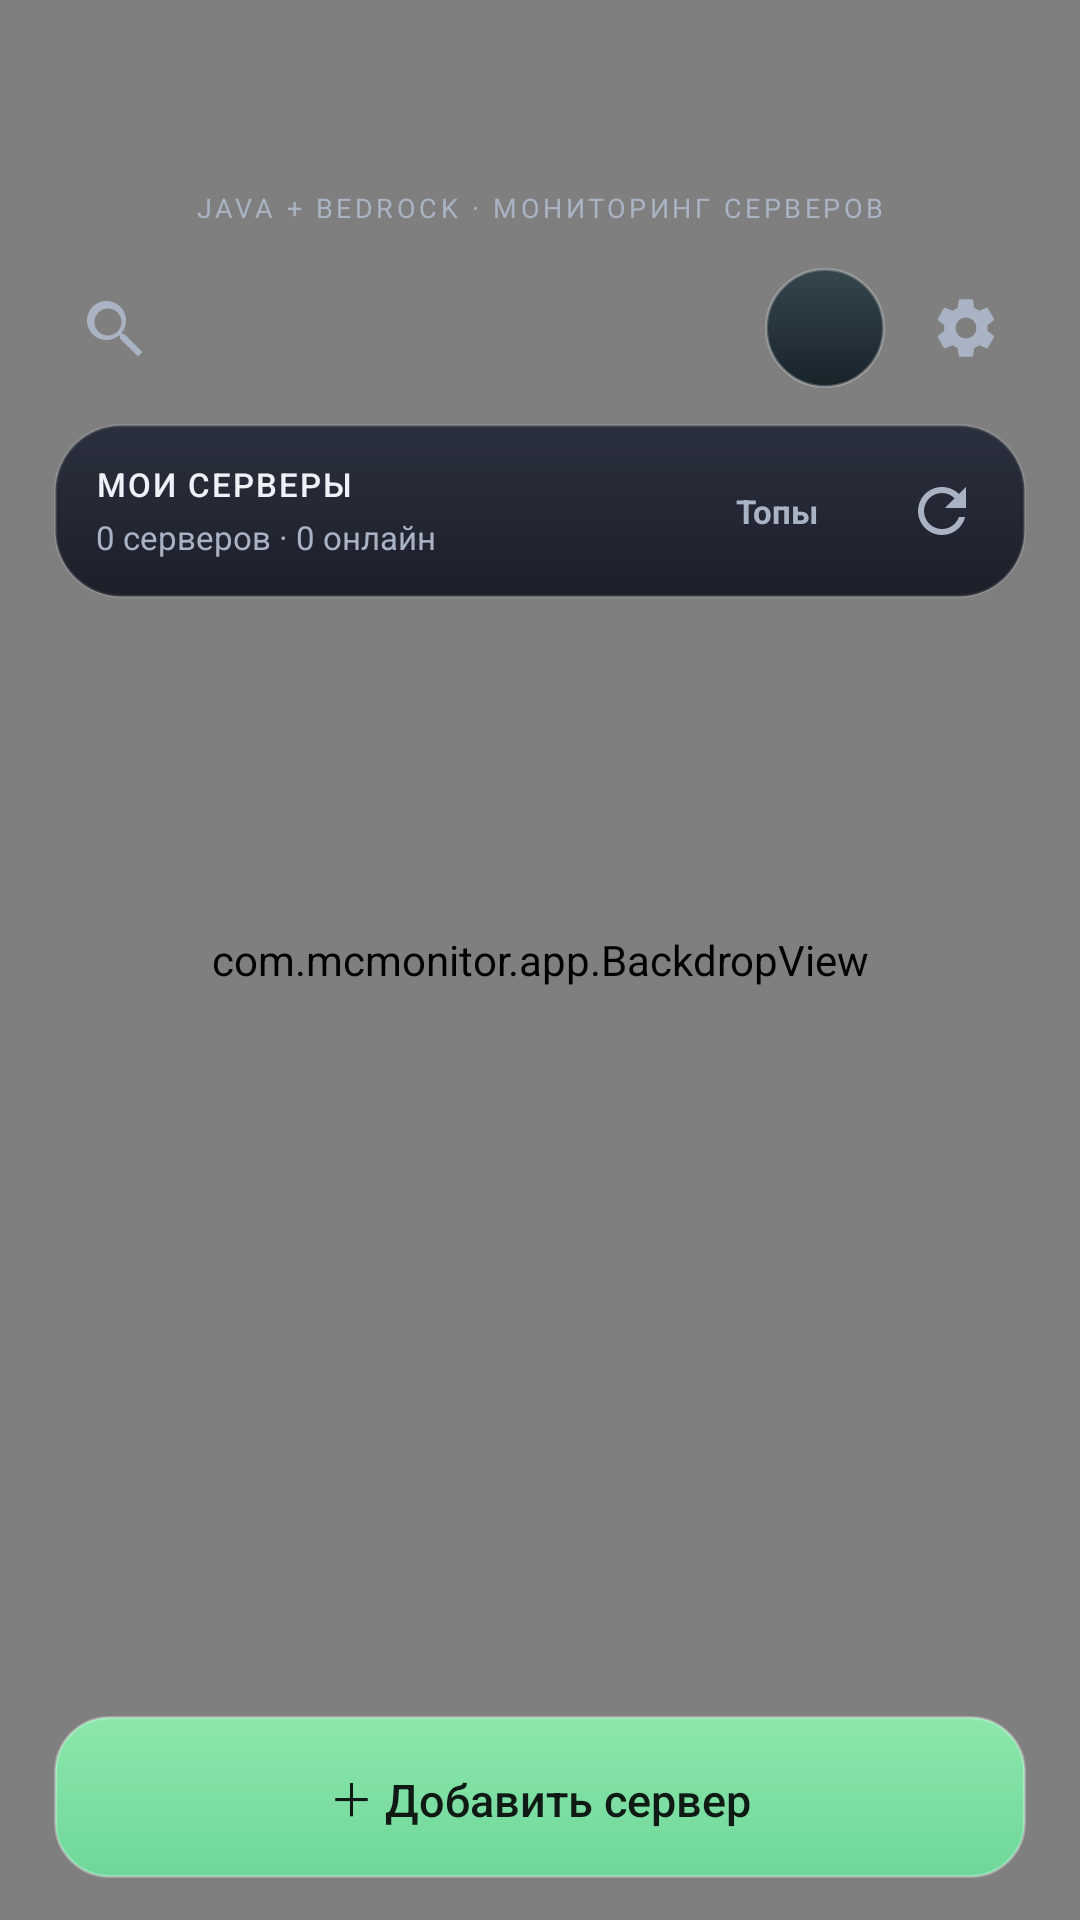

Screen size 1080*1920. Icon name, then its center in pixels as point (x, y):
Настройки: point (966, 328)
Обновить: point (942, 511)
Поиск серверов: point (114, 328)
